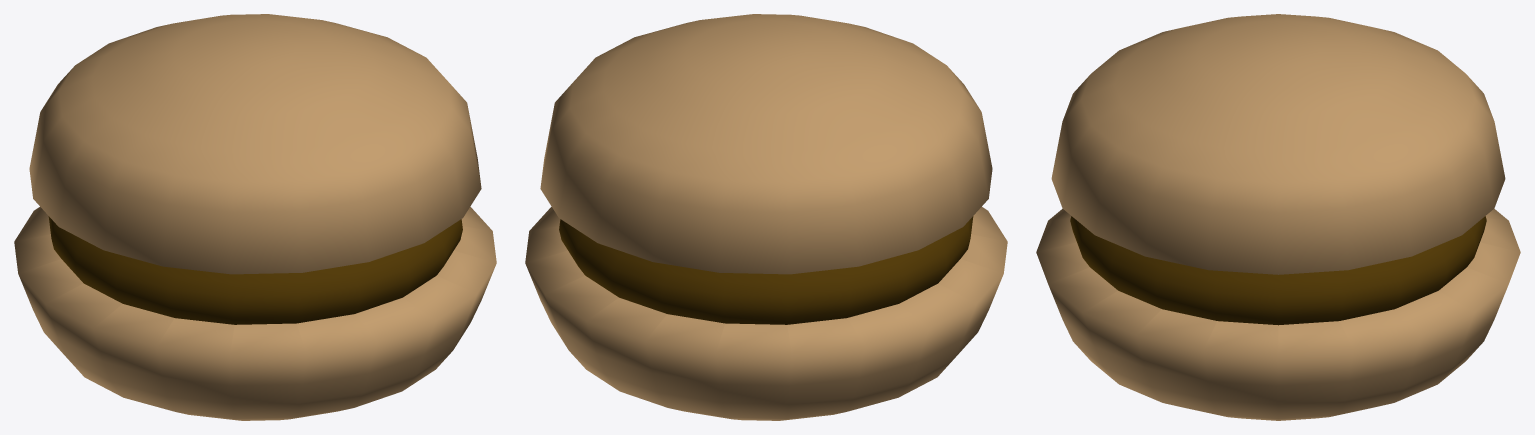
Rendered from Burger.fbx.
The picture shows the model from 3 angles, left to right: view 1: azimuth 30°, elevation 25°; view 2: azimuth 150°, elevation 25°; view 3: azimuth 270°, elevation 25°; orthographic projection.
Parts seen in each view (by area): view 1: Burger; view 2: Burger; view 3: Burger.
Boxes of the visible parts, left/top/right/bottom form: Burger: left=14, top=14, right=496, bottom=420; Burger: left=525, top=14, right=1007, bottom=420; Burger: left=1036, top=14, right=1520, bottom=420.
Bounding box in the file's own units: 57.06 × 44.26 × 57.06.
